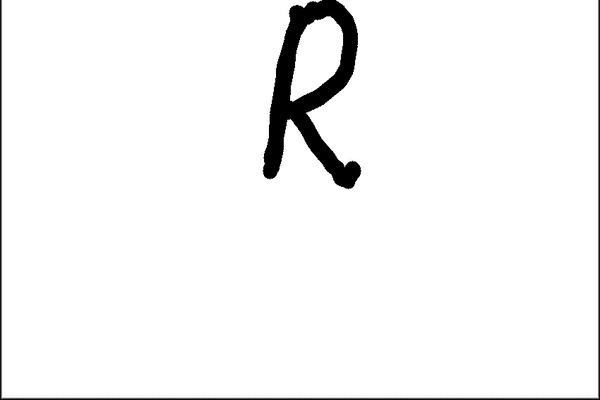R: (245, 0, 394, 198)
